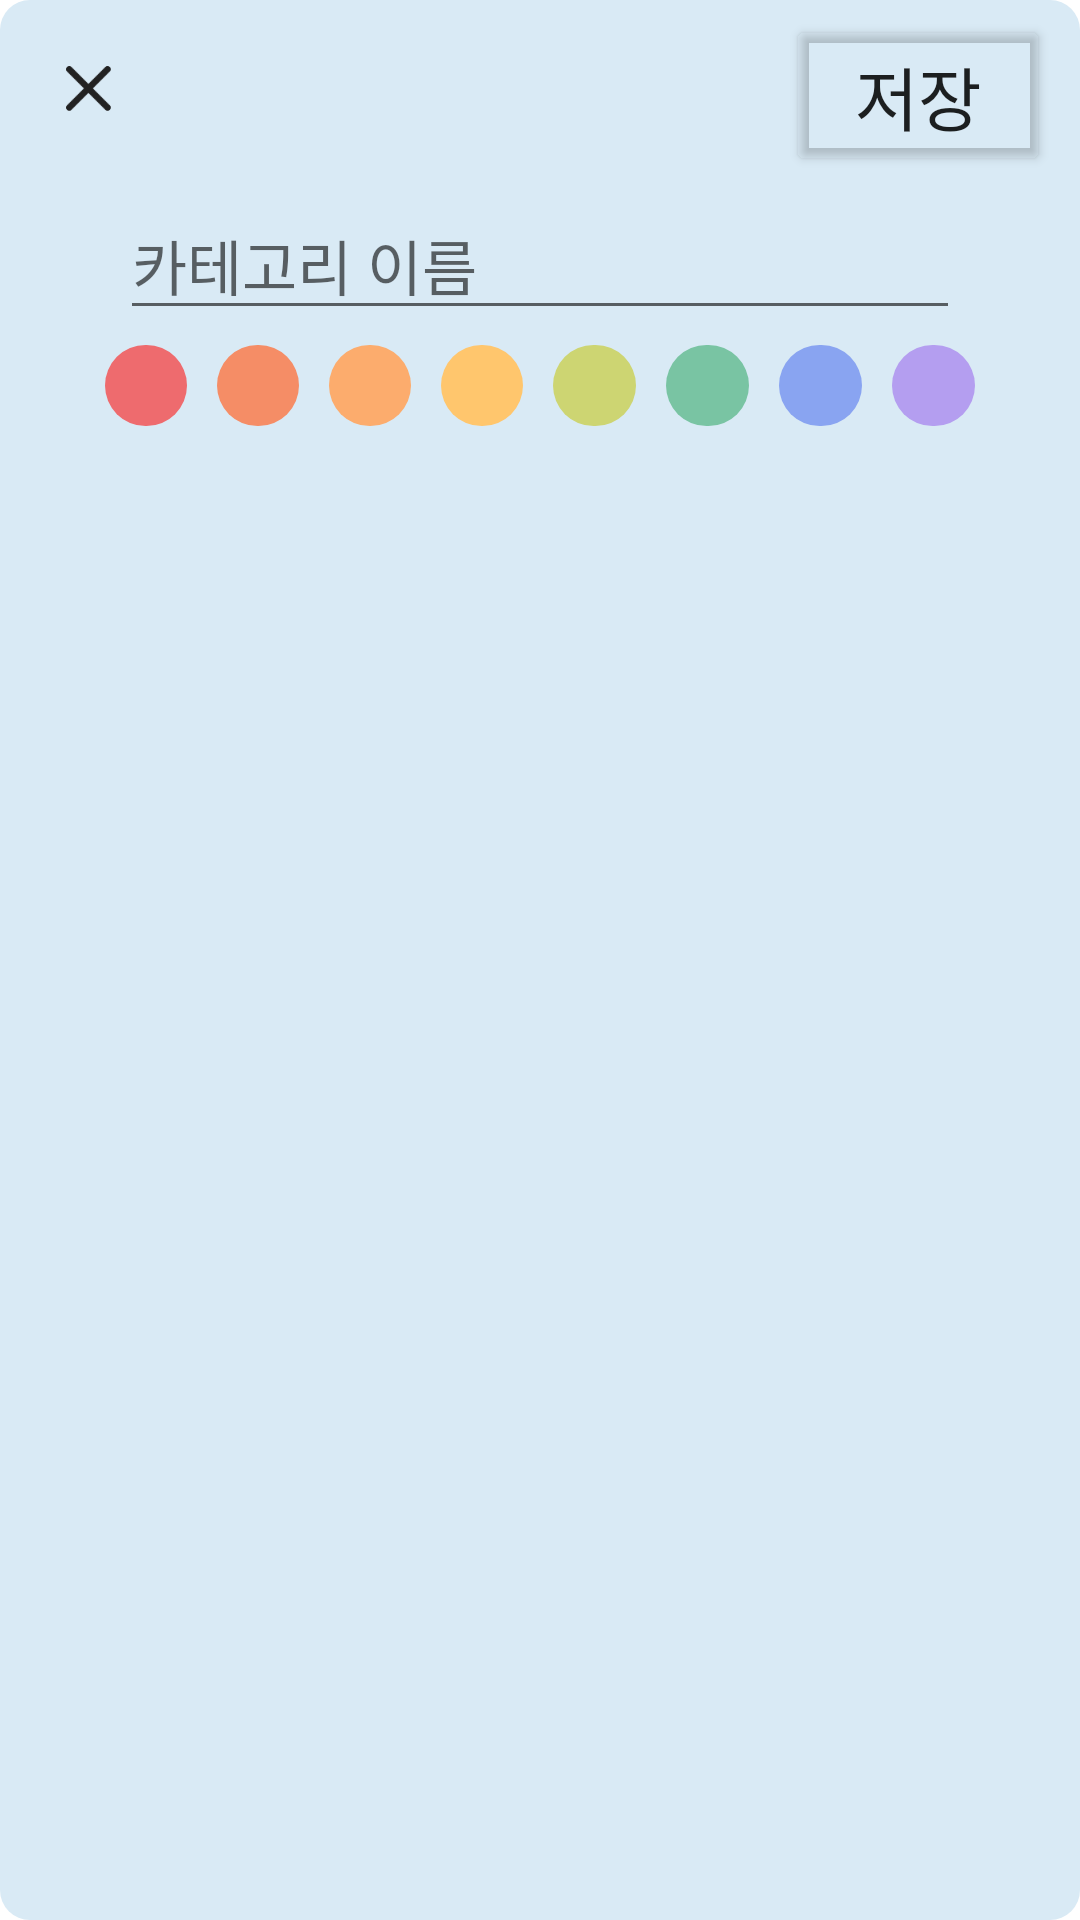

Icon click points for this 1080*1920 phone screenshot, format (x=x, y=y):
cancel: (x=88, y=88)
